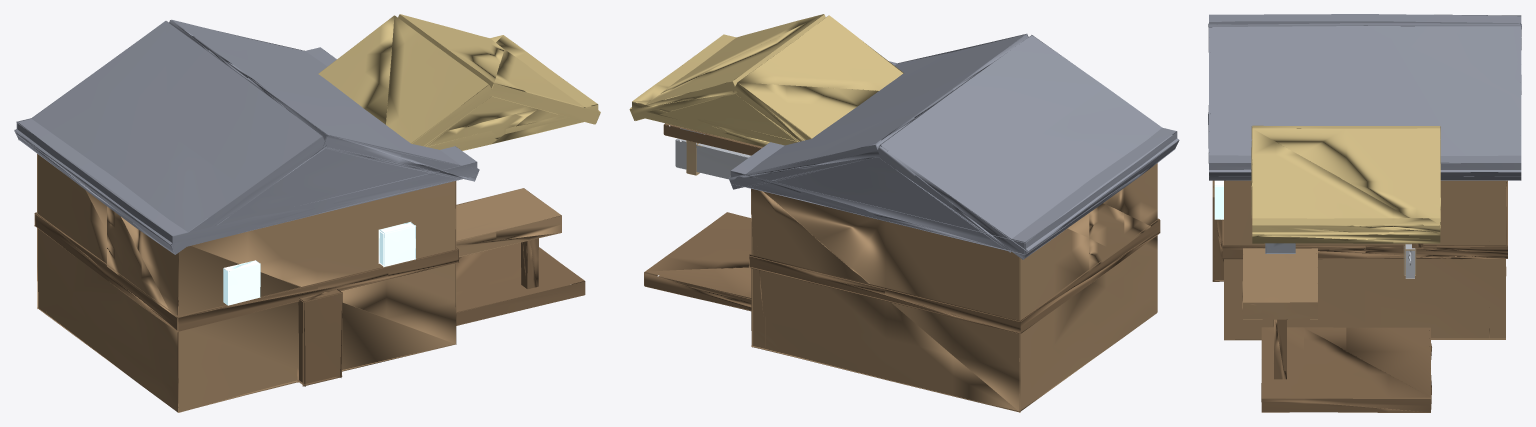
Rendered from toolsmith.glb.
3 renders of one model, left to right at view 1: azimuth 30°, elevation 25°; view 2: azimuth 150°, elevation 25°; view 3: azimuth 270°, elevation 25°, orthographic. The views are drawn at different scales.
Parts seen in each view (by area): view 1: ToolsmithWall; view 2: ToolsmithWall; view 3: ToolsmithWall.
Part boxes in pixels (x1=…): ToolsmithWall: x1=14, y1=14, x2=600, y2=412; ToolsmithWall: x1=629, y1=14, x2=1179, y2=412; ToolsmithWall: x1=1208, y1=14, x2=1521, y2=412.
Size of the model in its own units: 2.77 by 1.47 by 1.67.
